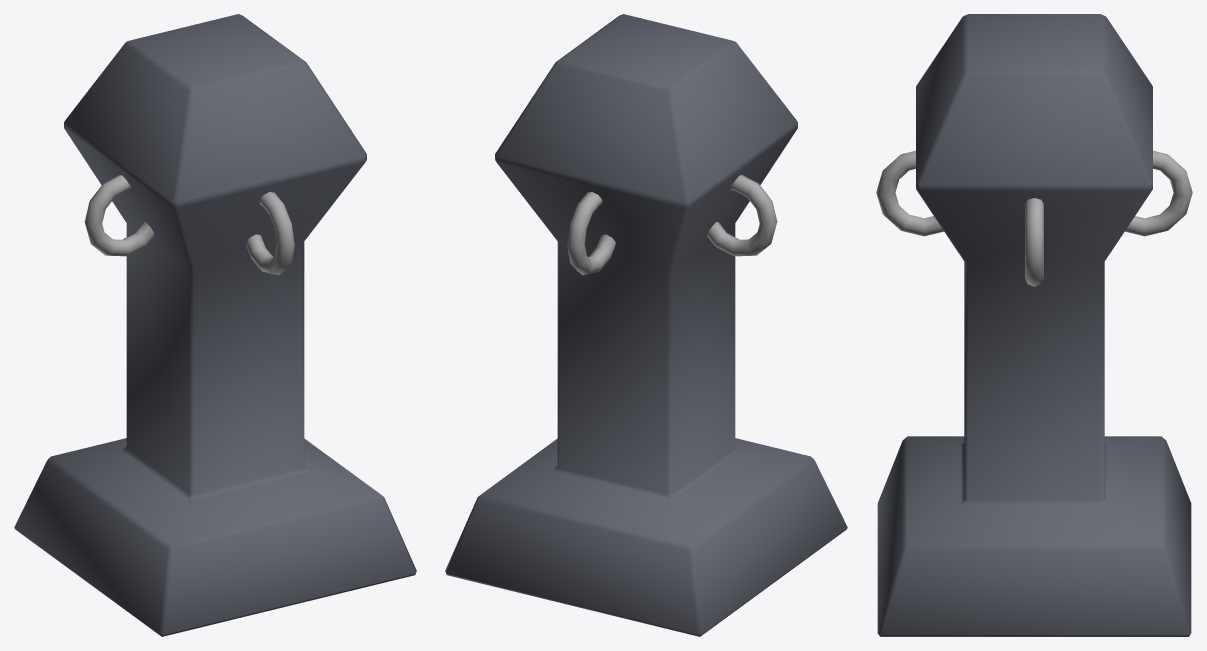
Rendered from barreira 2.fbx.
The picture shows the model from 3 angles, left to right: view 1: azimuth 30°, elevation 25°; view 2: azimuth 150°, elevation 25°; view 3: azimuth 270°, elevation 25°; orthographic projection. The views are drawn at different scales.
Parts seen in each view (by area): view 1: Barrier Base; view 2: Barrier Base; view 3: Barrier Base.
Part boxes in pixels (left/top/right/bottom): Barrier Base: left=14, top=14, right=416, bottom=636; Barrier Base: left=445, top=14, right=847, bottom=636; Barrier Base: left=876, top=14, right=1192, bottom=636.
Bounding box in the file's own units: 32.27 × 59.59 × 32.27.
